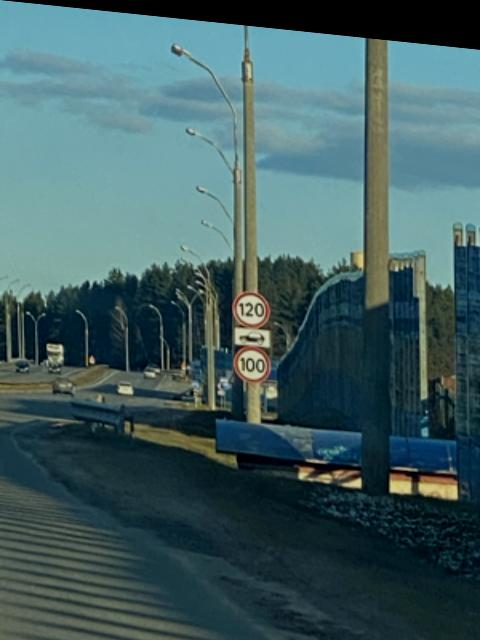limit100: (234, 341, 274, 377)
limit120: (232, 283, 270, 328)
